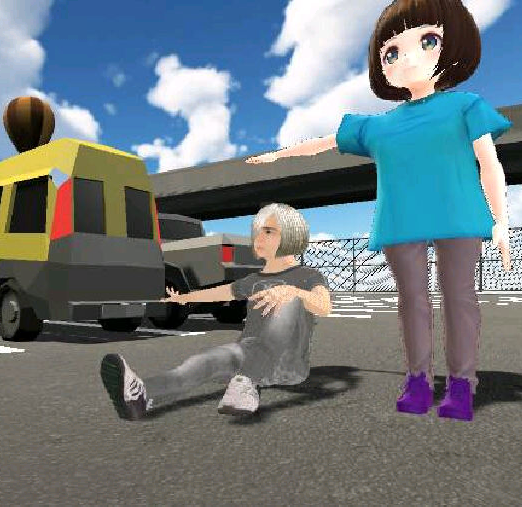doubleP_left: (101, 1, 511, 422)
